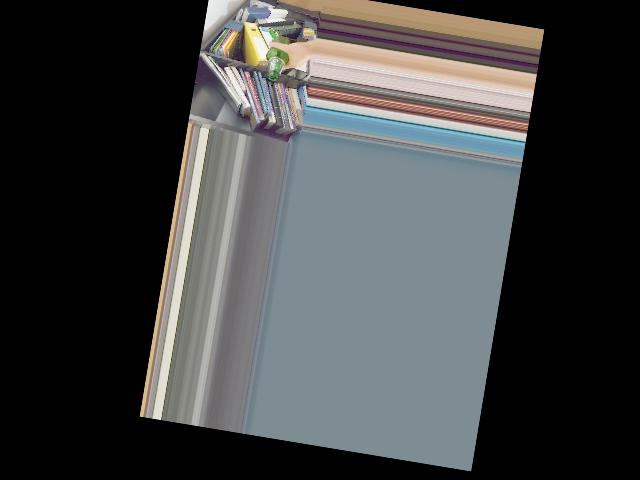beer: (263, 33, 292, 82)
